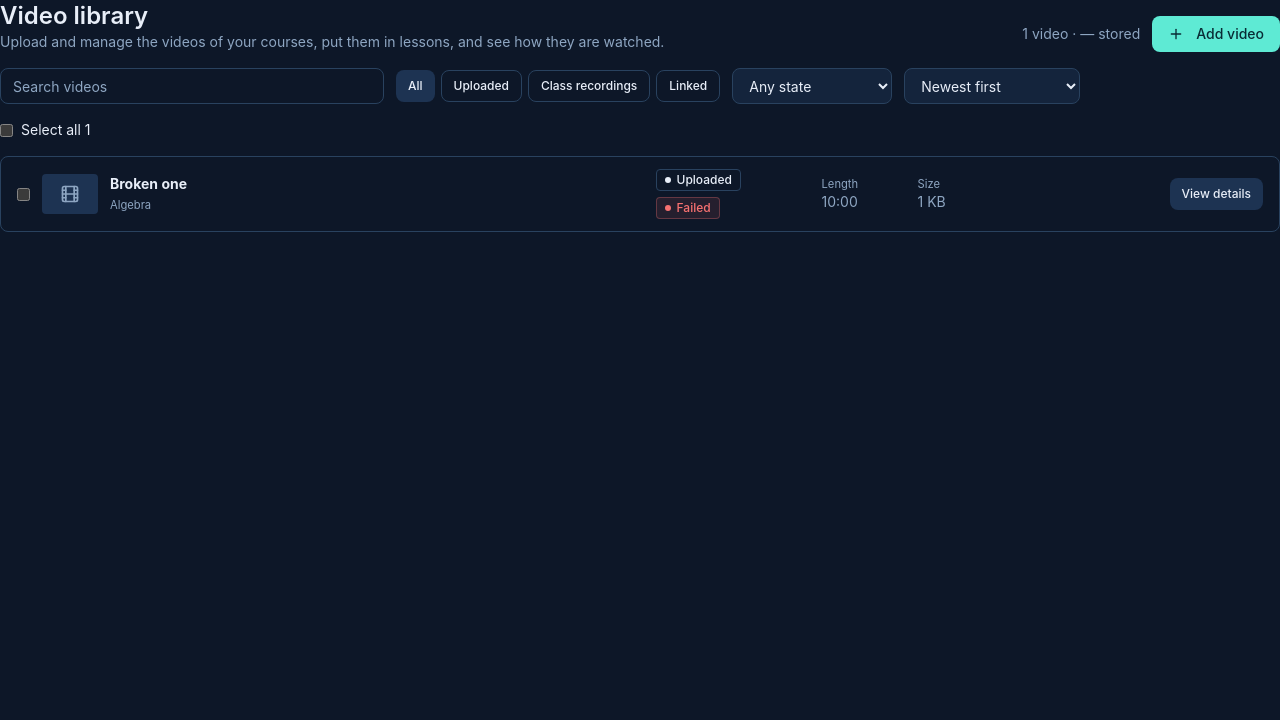
videos being converted › explains a failure and lets staff try again
Click the button with aria-label "View details for Broken one". click: (1216, 194)
box: [1170,178,1263,210]
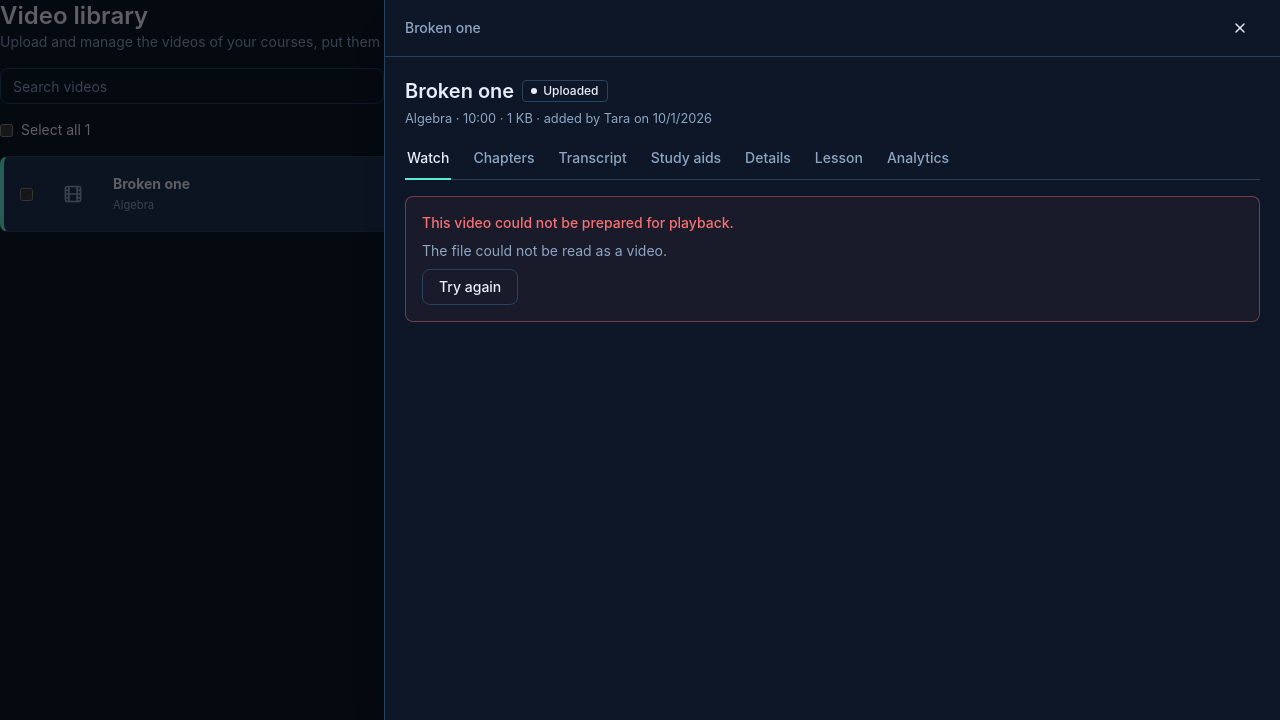
Expected: the text "The file could not be read as a video." is shown, [422,241,667,261]
Click the button "Try again". click: (470, 287)
box: [422,269,518,305]
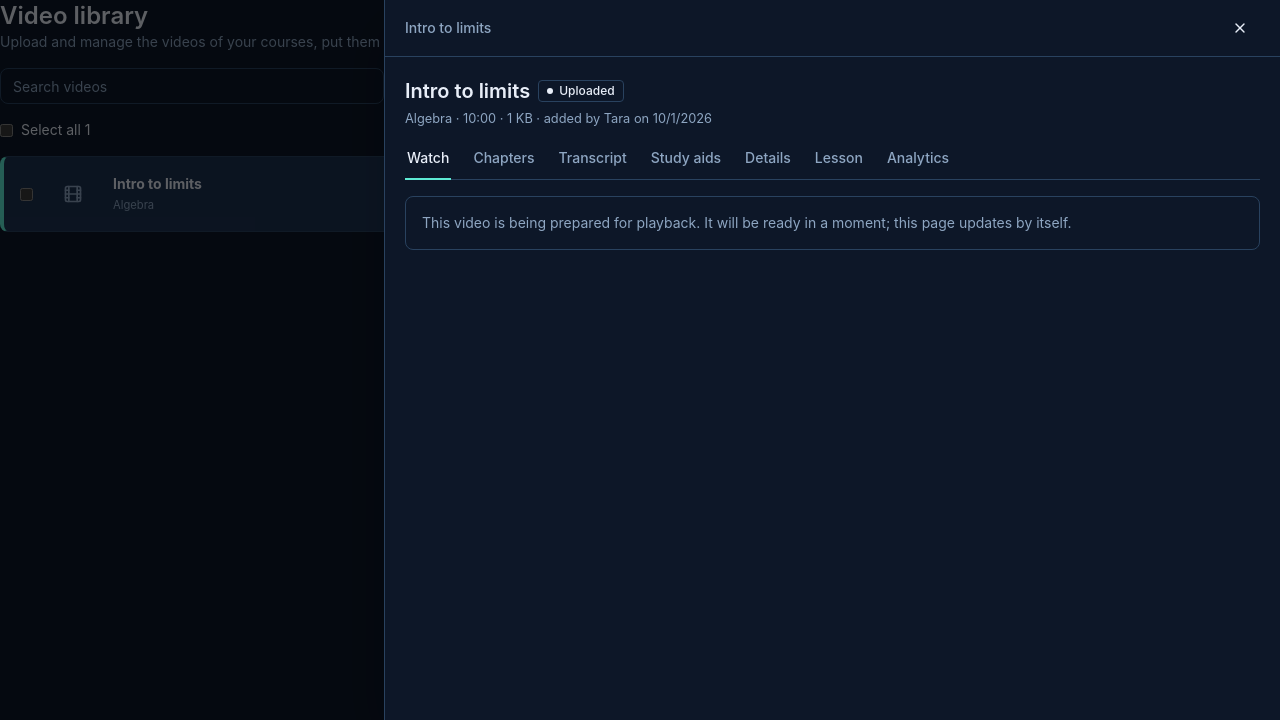
Expected: the message shows "being prepared", [422,214,1071,231]
